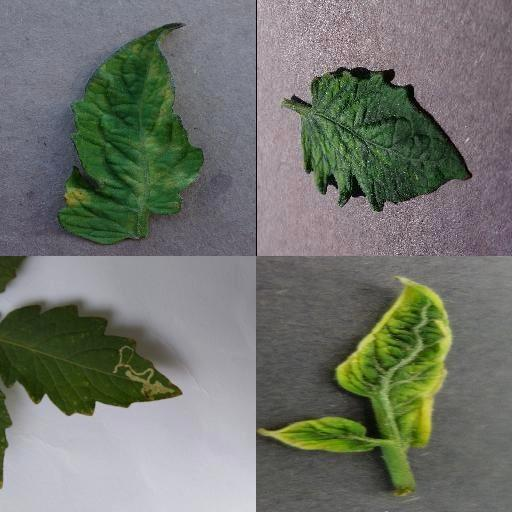Leaf Miner: (1, 304, 185, 418)
Leaf Mold: (59, 22, 206, 242)
Mosaic Virus: (300, 66, 474, 212)
Yellow Leaf Curl Virus: (338, 273, 452, 449), (259, 412, 374, 456)
